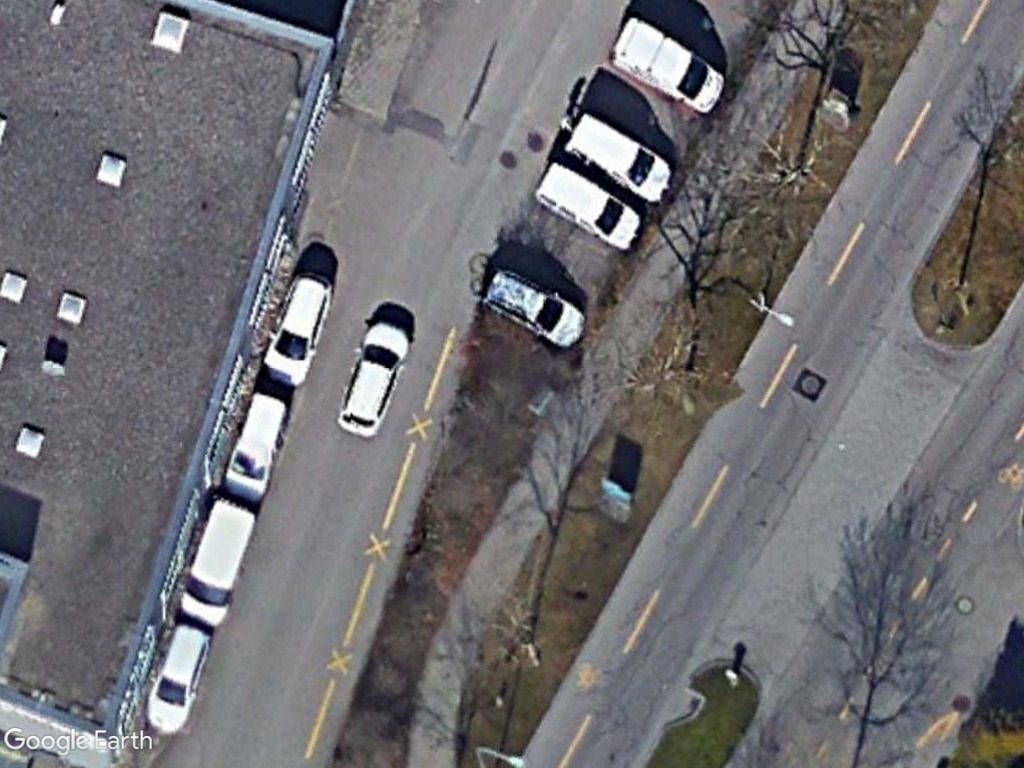car: (335, 316, 413, 438), (262, 271, 334, 389), (144, 620, 216, 733), (224, 389, 291, 498)
truck: (611, 17, 726, 113)
van: (560, 110, 674, 205), (177, 495, 256, 628), (532, 158, 643, 252), (483, 266, 587, 350)
